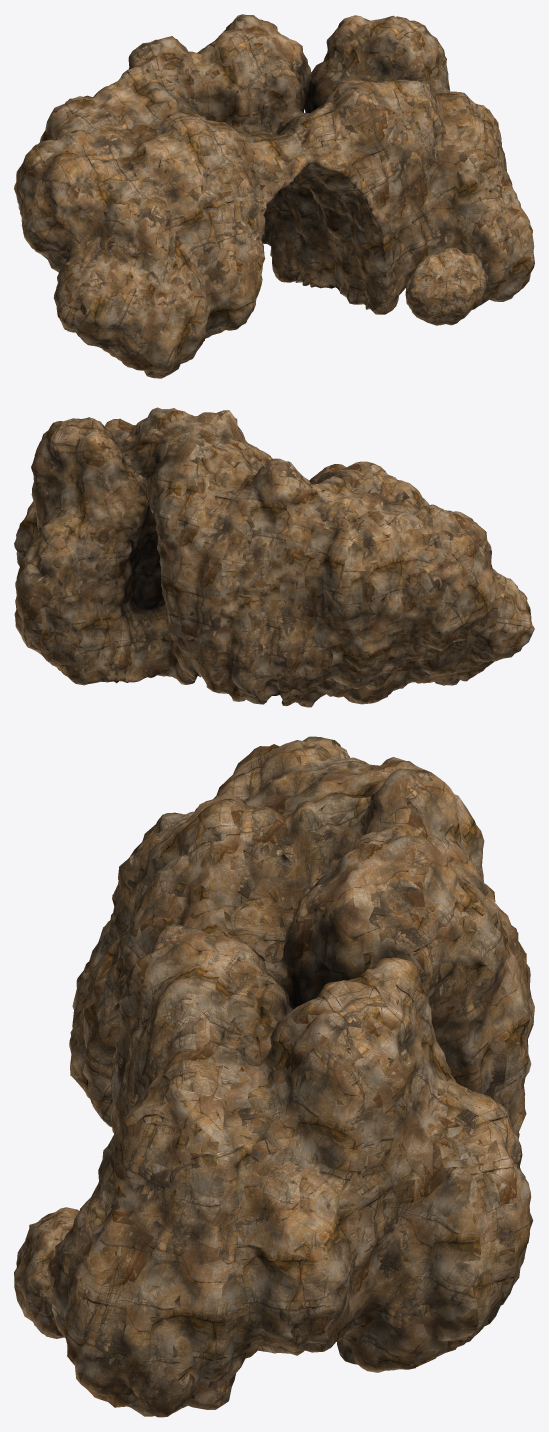
Rendered from cave_mouth.glb.
3 views of the same model, one above another, from view 1: azimuth 30°, elevation 25°; view 2: azimuth 150°, elevation 25°; view 3: azimuth 270°, elevation 25° (orthographic). The views are drawn at different scales.
Parts seen in each view (by area): view 1: cave_mouth, cave_mouth_boulder; view 2: cave_mouth; view 3: cave_mouth, cave_mouth_boulder.
Boxes of the visible parts, box(x1,y1,x2,y2) form: cave_mouth: box(14, 14, 534, 378); cave_mouth_boulder: box(405, 247, 488, 325); cave_mouth: box(14, 407, 534, 707); cave_mouth: box(47, 736, 534, 1417); cave_mouth_boulder: box(14, 1207, 79, 1338).
Bounding box in the file's own units: 37.85 × 20.39 × 21.98.
1 material, 1 textured.
